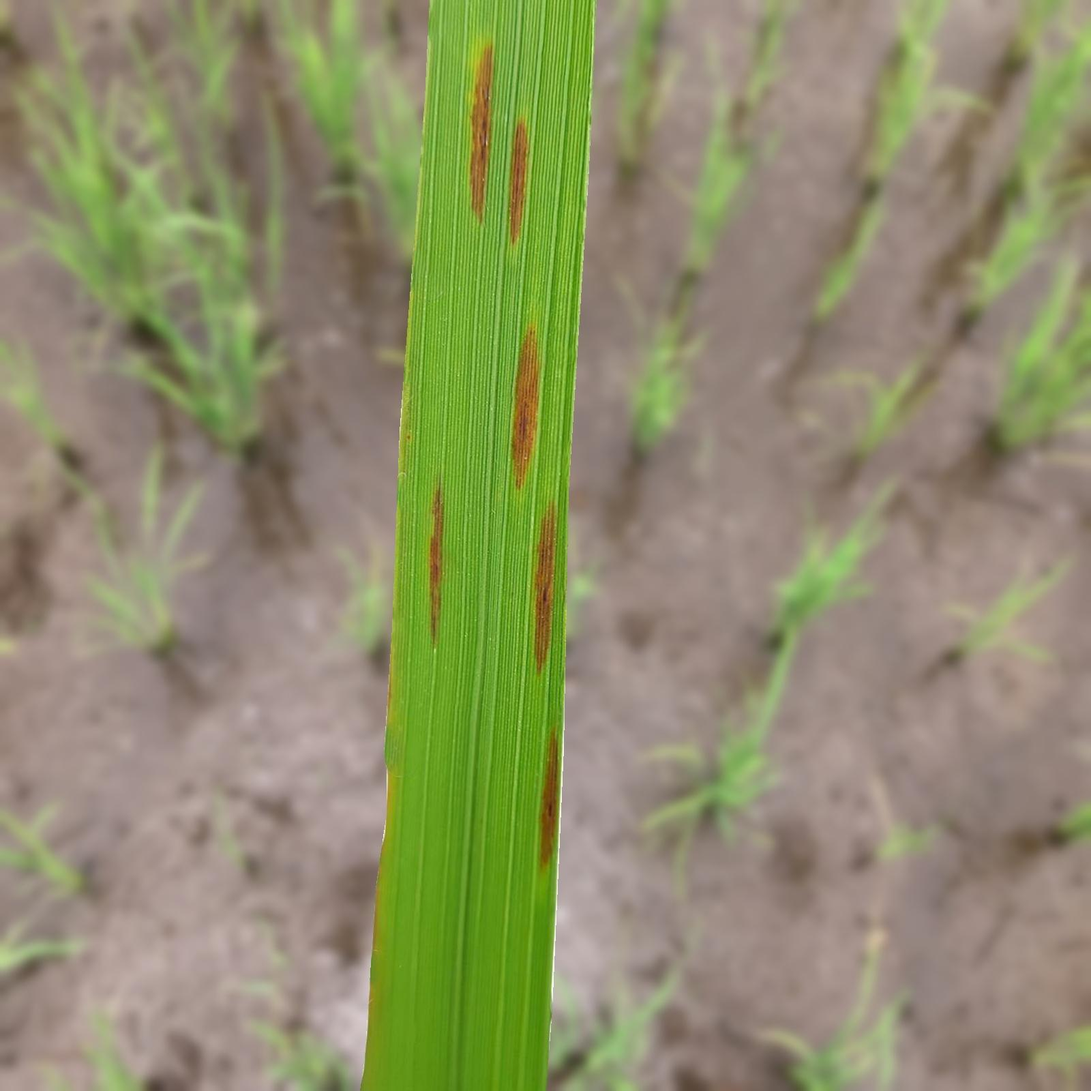LEAF: (360, 0, 596, 1090)
NBS: (513, 325, 540, 488), (469, 44, 493, 221), (534, 504, 556, 672), (539, 732, 558, 867), (509, 117, 528, 243), (429, 484, 443, 644)
